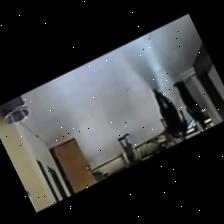person: (152, 89, 186, 140), (173, 81, 205, 129), (117, 133, 137, 165)
